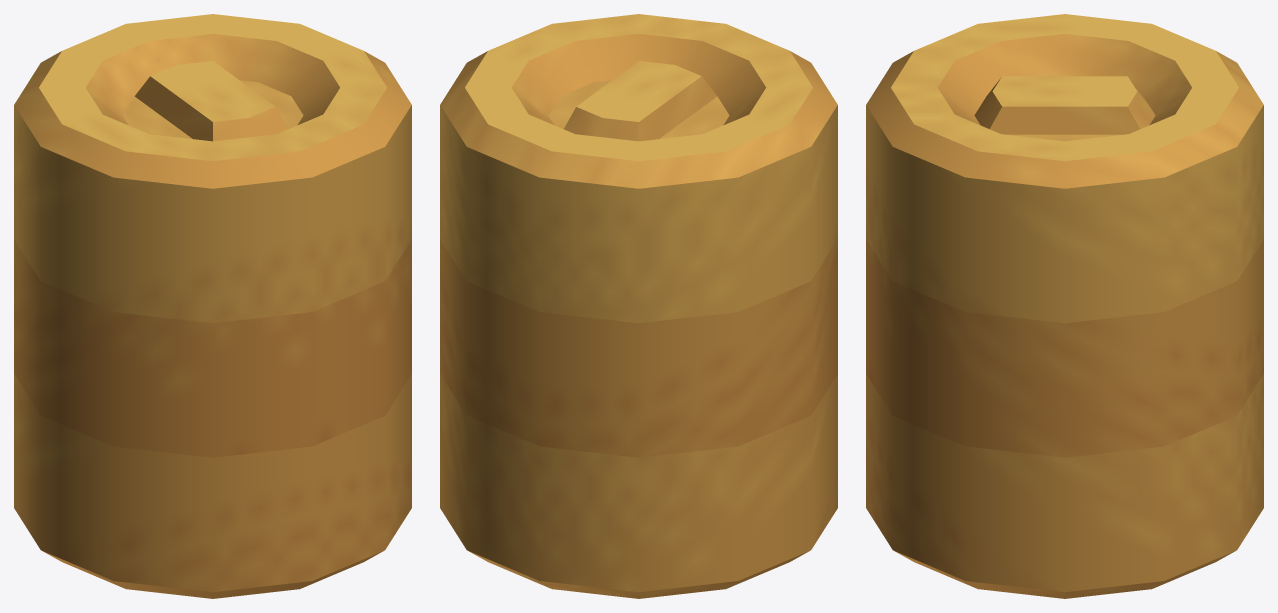
The model's file is Money_Coins_Stack_Small.gltf.
The picture shows the model from 3 angles, left to right: view 1: azimuth 30°, elevation 25°; view 2: azimuth 150°, elevation 25°; view 3: azimuth 270°, elevation 25°; orthographic projection.
Visible parts, largest first — view 1: Money_Coins_Stack_Small; view 2: Money_Coins_Stack_Small; view 3: Money_Coins_Stack_Small.
Part boxes in pixels (x1,y1,x2,y2): Money_Coins_Stack_Small: (14, 14, 411, 598); Money_Coins_Stack_Small: (440, 14, 837, 598); Money_Coins_Stack_Small: (866, 14, 1263, 598).
Size of the model in its own units: 0.247 by 0.3 by 0.247.
Materials: 1 (1 with a texture image).
